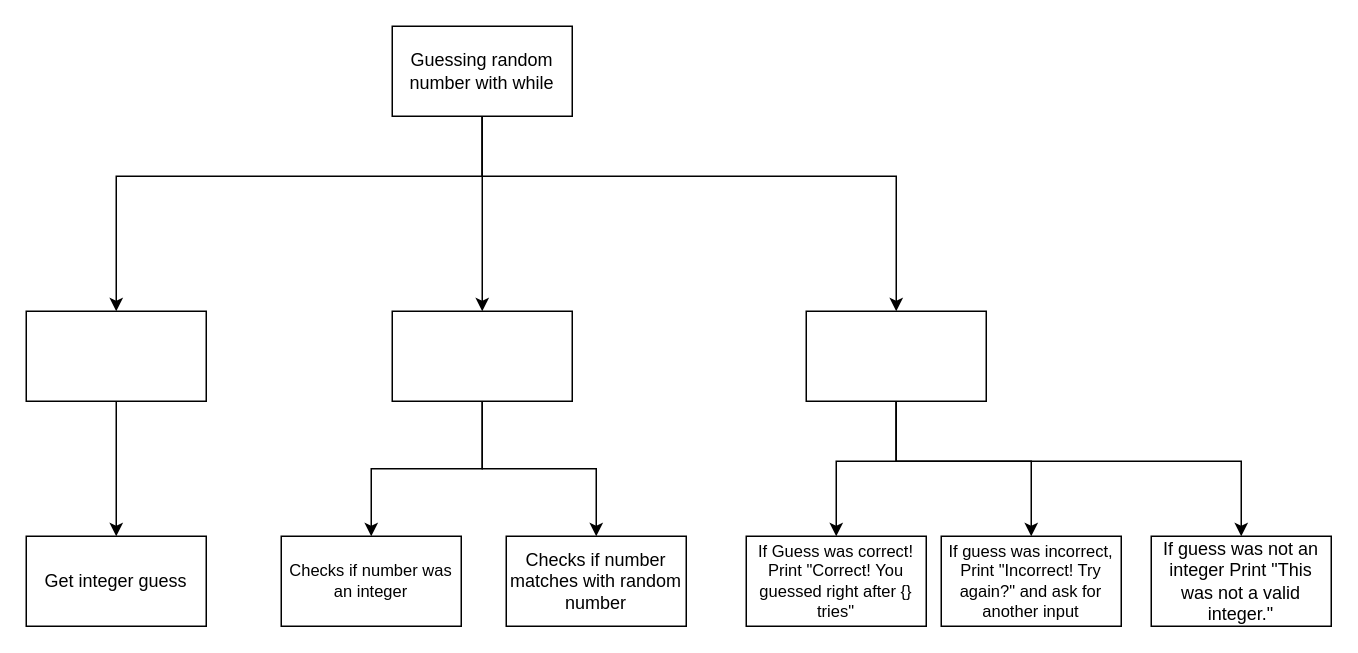
Image size: 1358x653. Some labels were removed from this diagram. The shapes that lost their labels are listed below. From the top down, each one's centre as x and y in pixels, then its label:
At point 115,355: "Input".
At point 481,355: "Process".
At point 895,355: "Output".
